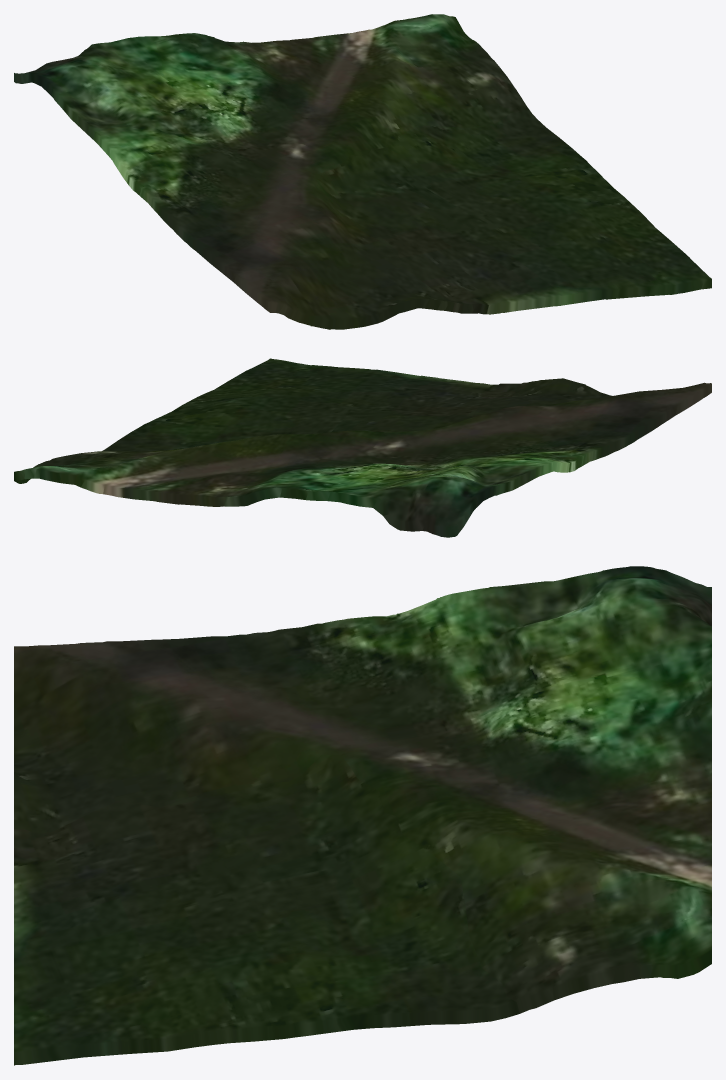
Rendered from z20-167563-405175-h0-yup-uvflip-v3-world.glb.
The picture shows the model from 3 angles, top to bottom: view 1: azimuth 30°, elevation 25°; view 2: azimuth 150°, elevation 25°; view 3: azimuth 270°, elevation 25°; orthographic projection. The views are drawn at different scales.
Bounding box in the file's own units: 30.16 × 10.12 × 30.32.
Materials: 1 (1 with a texture image).
